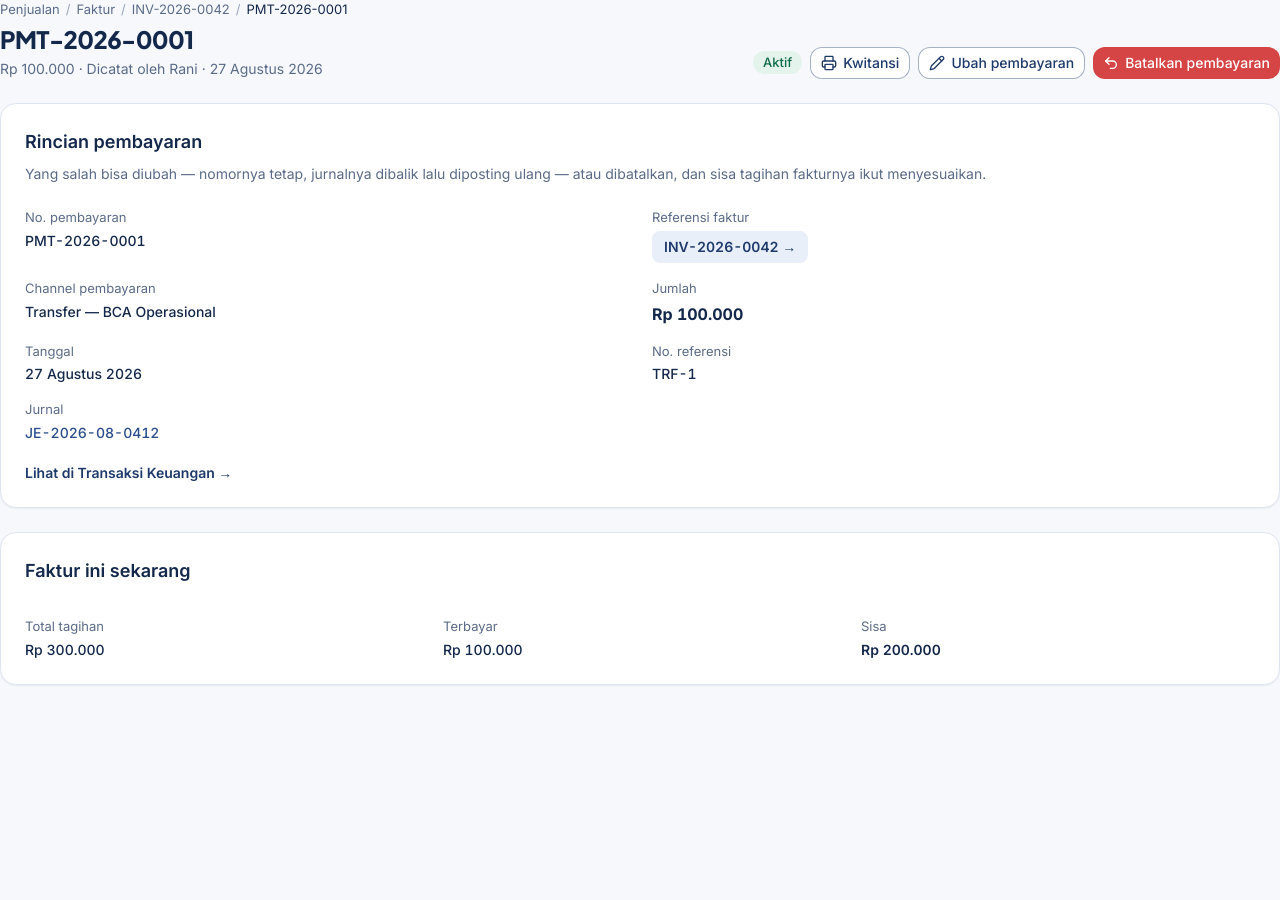
Test: InvoicePaymentDetail — kwitansi › prints one PAYMENT, not the whole invoice
This screenshot has width=1280, height=900.
What coordinates should you click on to do the following:
click the button "Kwitansi"
I would click on:
 (860, 63)
Its box is top-left (810, 47), bottom-right (910, 79).
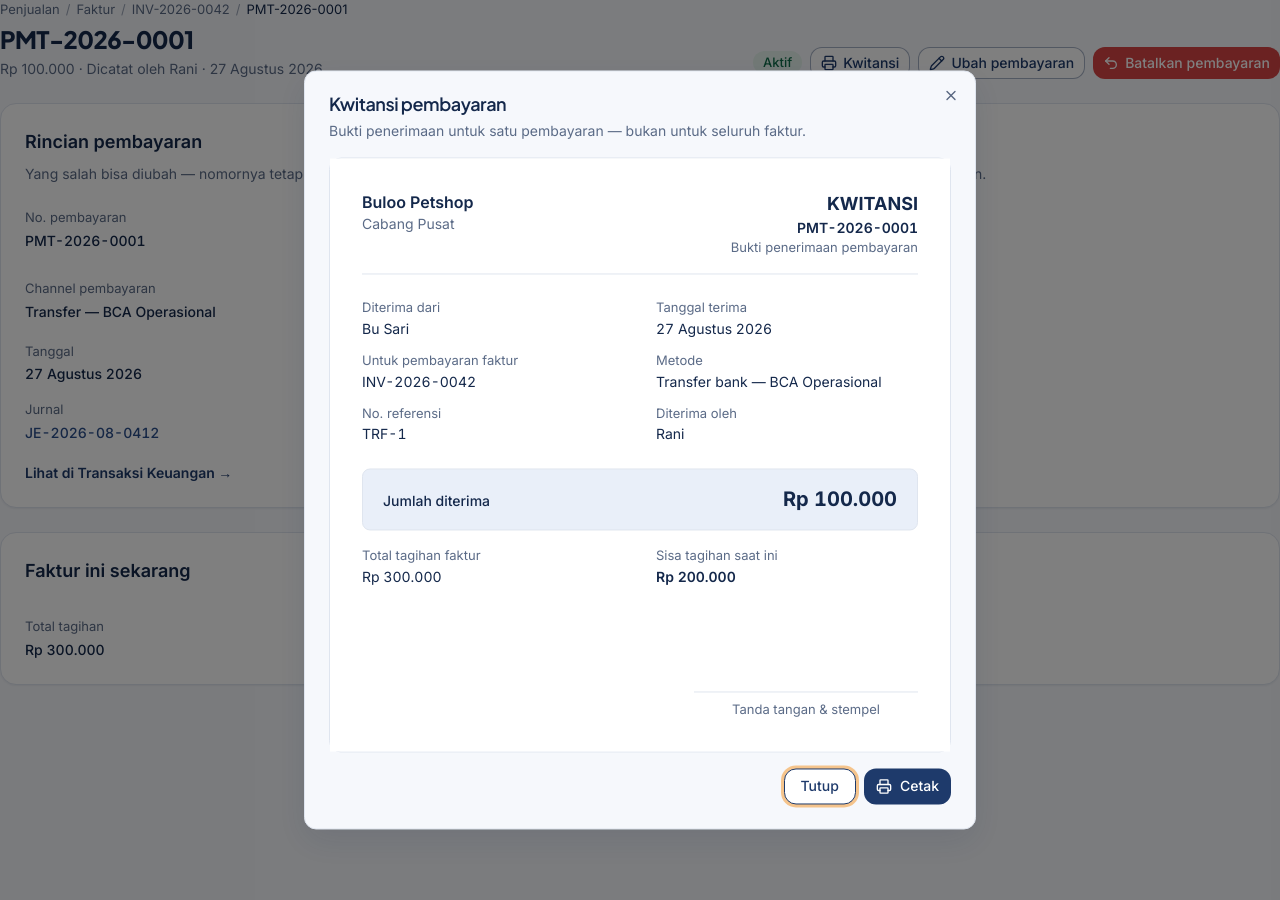
Now the text "KWITANSI" is shown, box top-left (827, 194), bottom-right (918, 214)
Now the text "Rp 100.000" is shown, box top-left (783, 486), bottom-right (897, 514)
Now the text "Jumlah diterima" is shown, box top-left (383, 492), bottom-right (490, 512)
